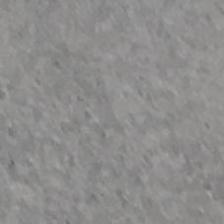Non_Crack: (11, 16, 224, 224)
